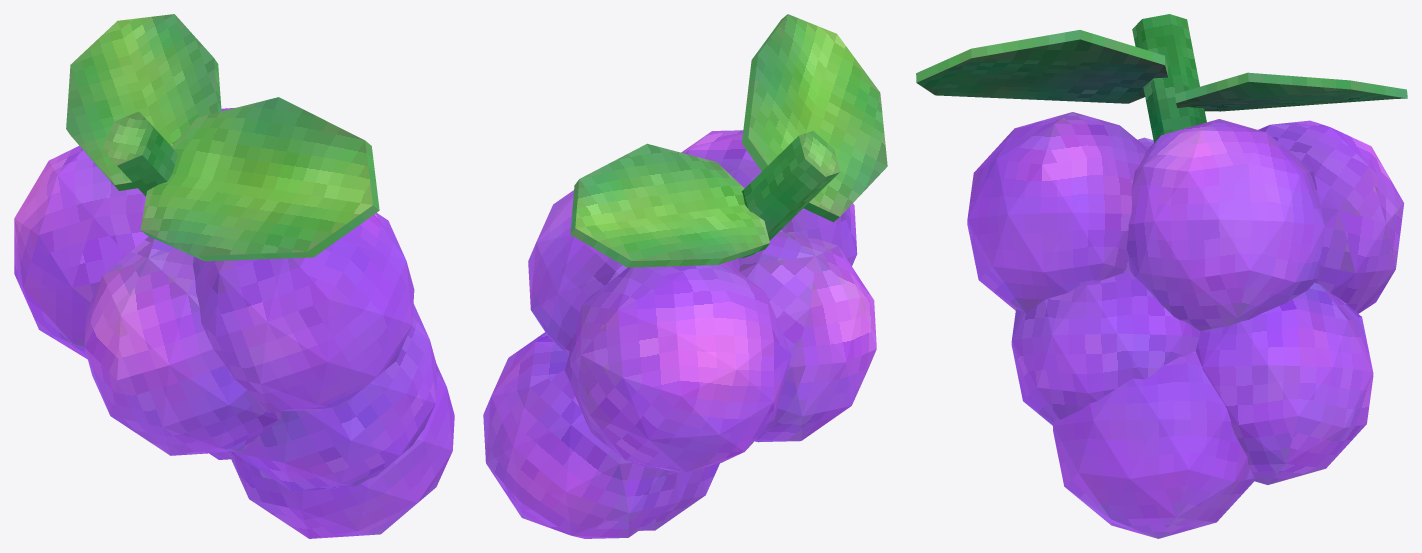
Rendered from grape.glb.
3 renders of one model, left to right at view 1: azimuth 30°, elevation 25°; view 2: azimuth 150°, elevation 25°; view 3: azimuth 270°, elevation 25°, orthographic. The views are drawn at different scales.
Visible parts, largest first — view 1: grapeMesh; view 2: grapeMesh; view 3: grapeMesh.
Boxes of the visible parts, x1,y1,x2,y2 form: grapeMesh: (14,14,454,538); grapeMesh: (483,14,887,538); grapeMesh: (916,14,1407,538).
Bounding box in the file's own units: 0.5879 × 0.7934 × 0.7828.
Materials: 1 (1 with a texture image).
